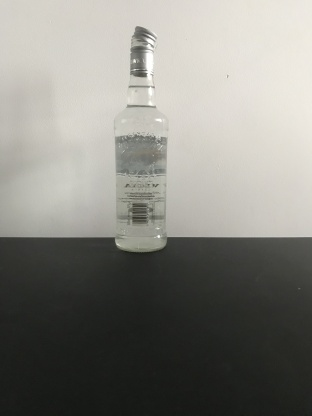nakretka: (128, 24, 158, 76)
